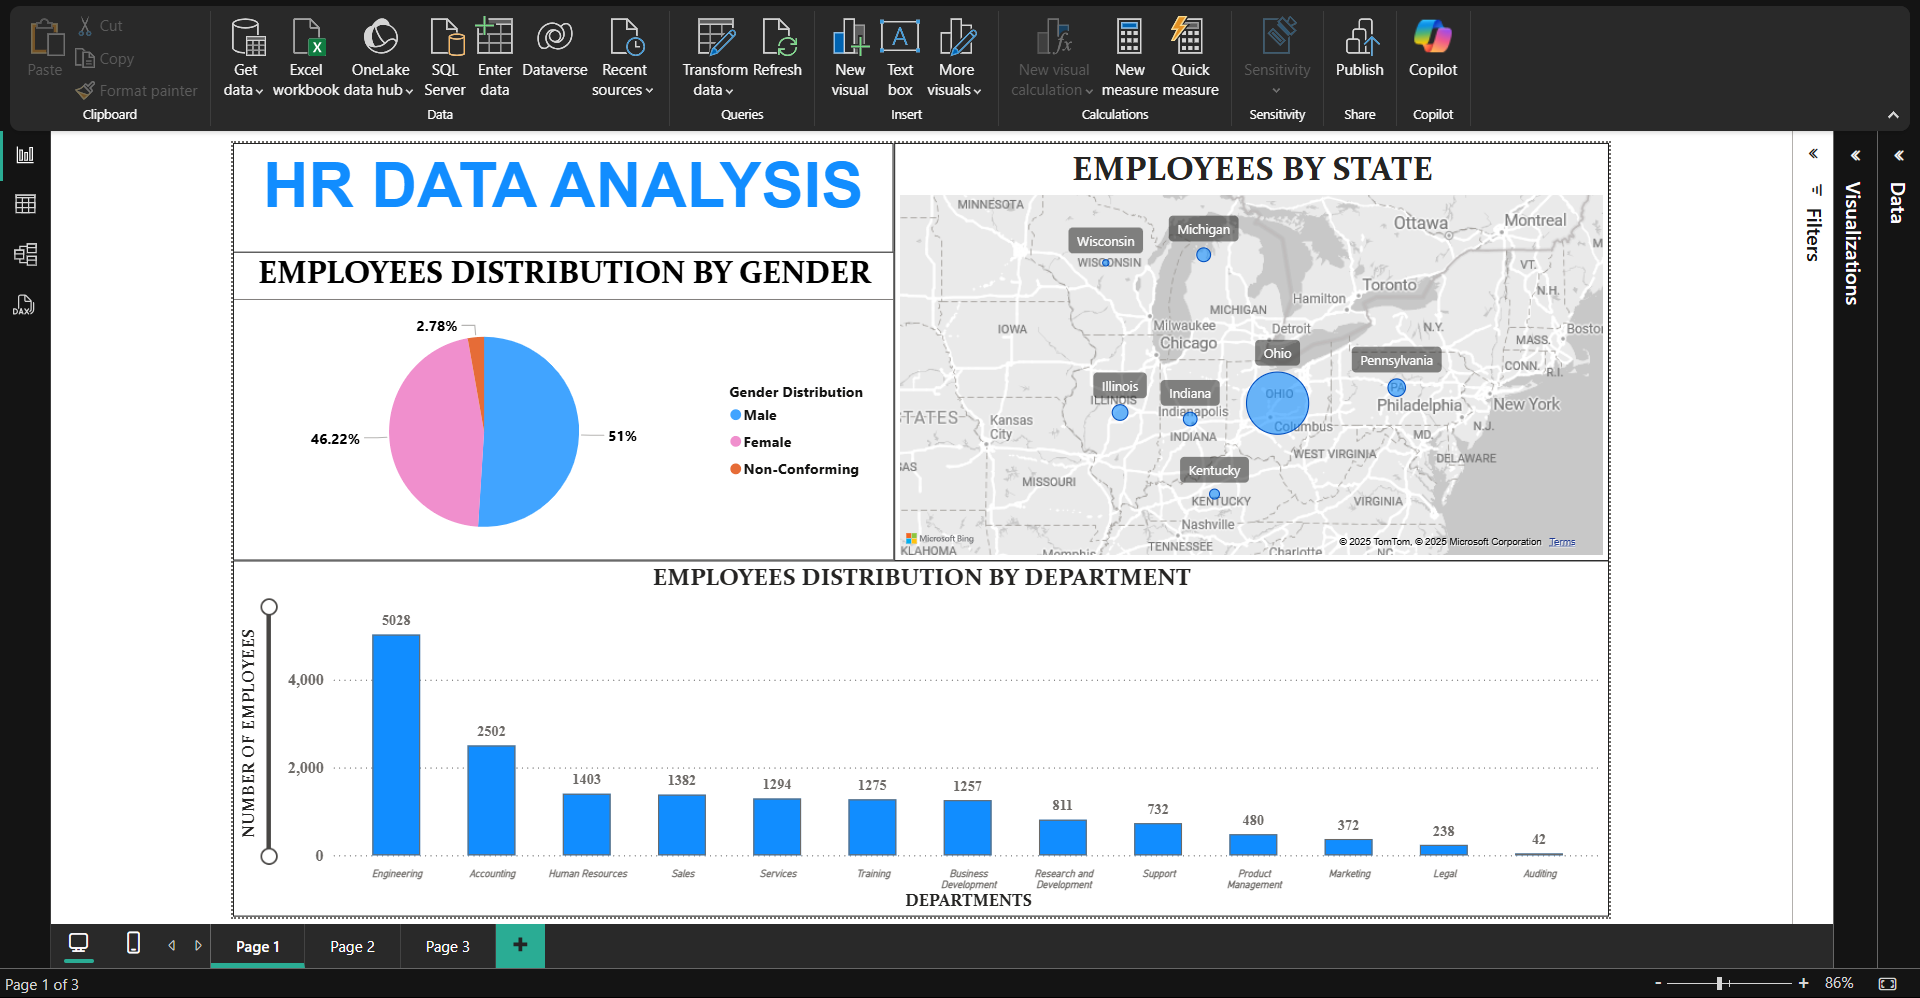

Layout of this report page (visuals, bound fields, positions):
{"tool":"powerbi","page":{"name":"Page 1","canvas":[1280,720],"ordinal":0},"visuals":[{"type":"map","title":"EMPLOYEES BY STATE  ","fields":{"Category":["processed human resources file.location_state"],"Size":["Sum(processed human resources file.row_num)"]},"box":[615,0,665,388.8],"z":0},{"type":"textbox","box":[0,0,614.4,162.2],"z":2000},{"type":"pieChart","title":"EMPLOYEES DISTRIBUTION BY GENDER","fields":{"Category":["processed human resources file.gender"],"Y":["Sum(processed human resources file.row_num)"]},"box":[0,101.2,615,287.5],"z":3000},{"type":"columnChart","title":"EMPLOYEES DISTRIBUTION BY DEPARTMENT ","fields":{"Y":["Sum(processed human resources file.row_num)"],"Category":["processed human resources file.department"]},"box":[0,388.8,1280,331.2],"z":3001}]}

Visuals, with their boxes on the page's 1280x720 design canvas (x1, y1, x2, y2). These are canvas units, not pixel positions in the 1920x998 screenshot, which may show the page scaled, cropped or inside an application window:
"EMPLOYEES BY STATE  " map: 615/0/1280/389
textbox: 0/0/614/162
"EMPLOYEES DISTRIBUTION BY GENDER" pieChart: 0/101/615/389
"EMPLOYEES DISTRIBUTION BY DEPARTMENT " columnChart: 0/389/1280/720
